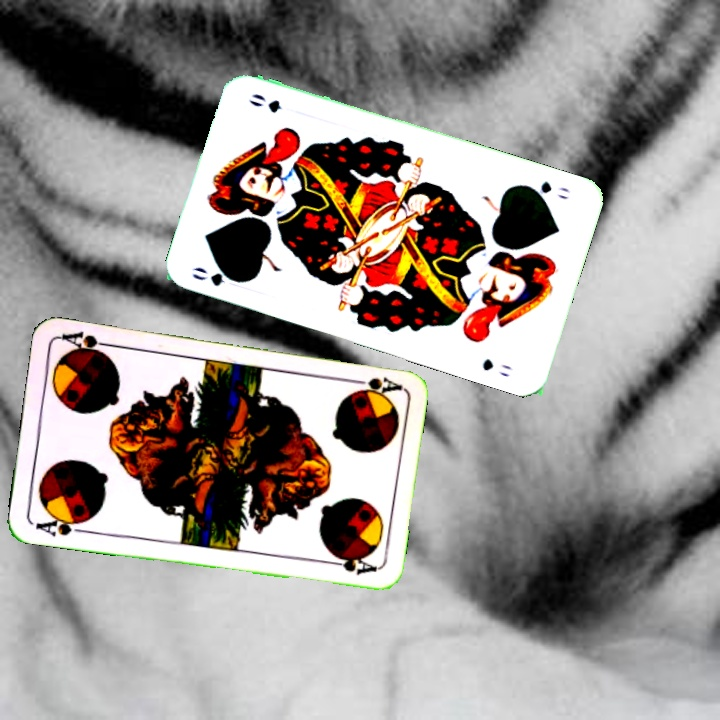GO: (188, 263, 247, 289), (519, 176, 572, 202)
SA: (31, 510, 91, 539), (344, 373, 403, 397)
